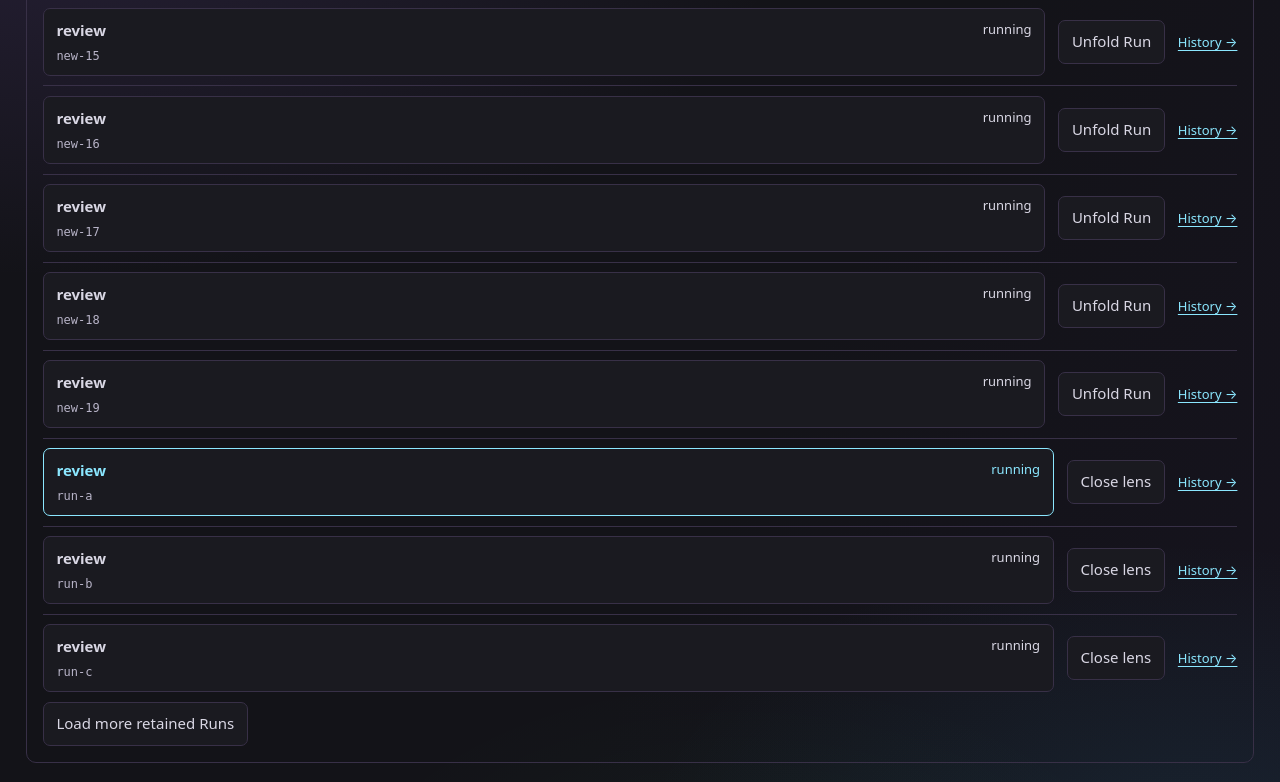
Orb parallel Run field › keeps a fresh continuation cursor when automatic refresh discovers a new page
The image size is (1280, 782).
(page scrolled)
Click the button "Load more retained Runs" at (145,724), box [43,702,248,746]
(page scrolled)
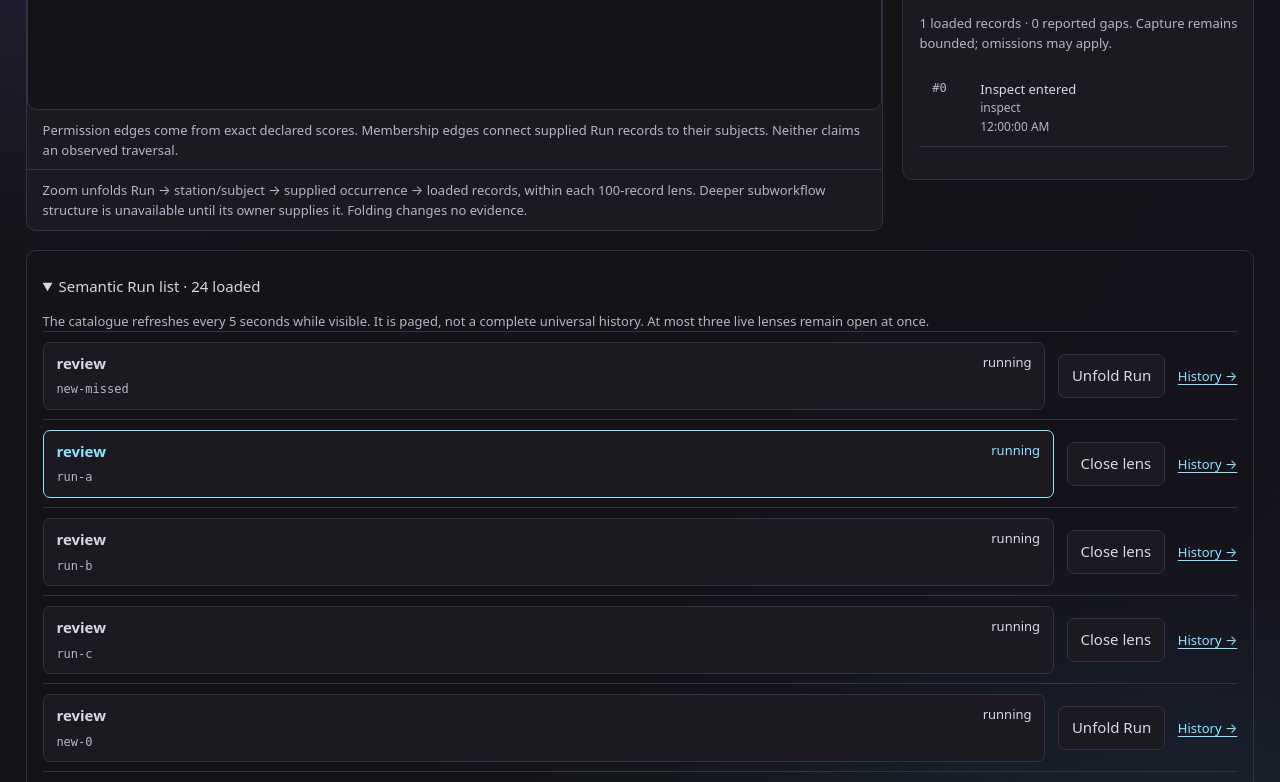
Check: the text "new-missed" is shown, box [56,382,129,396]
